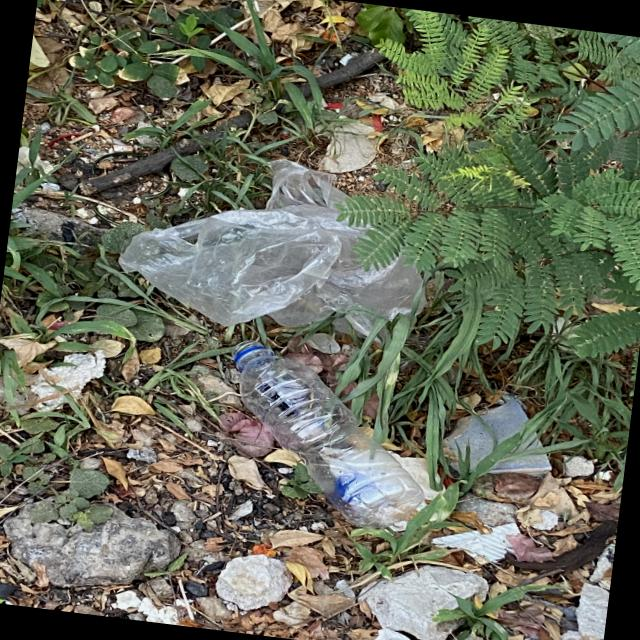chai_nhua: (235, 341, 423, 528)
nhua: (118, 158, 421, 327)
